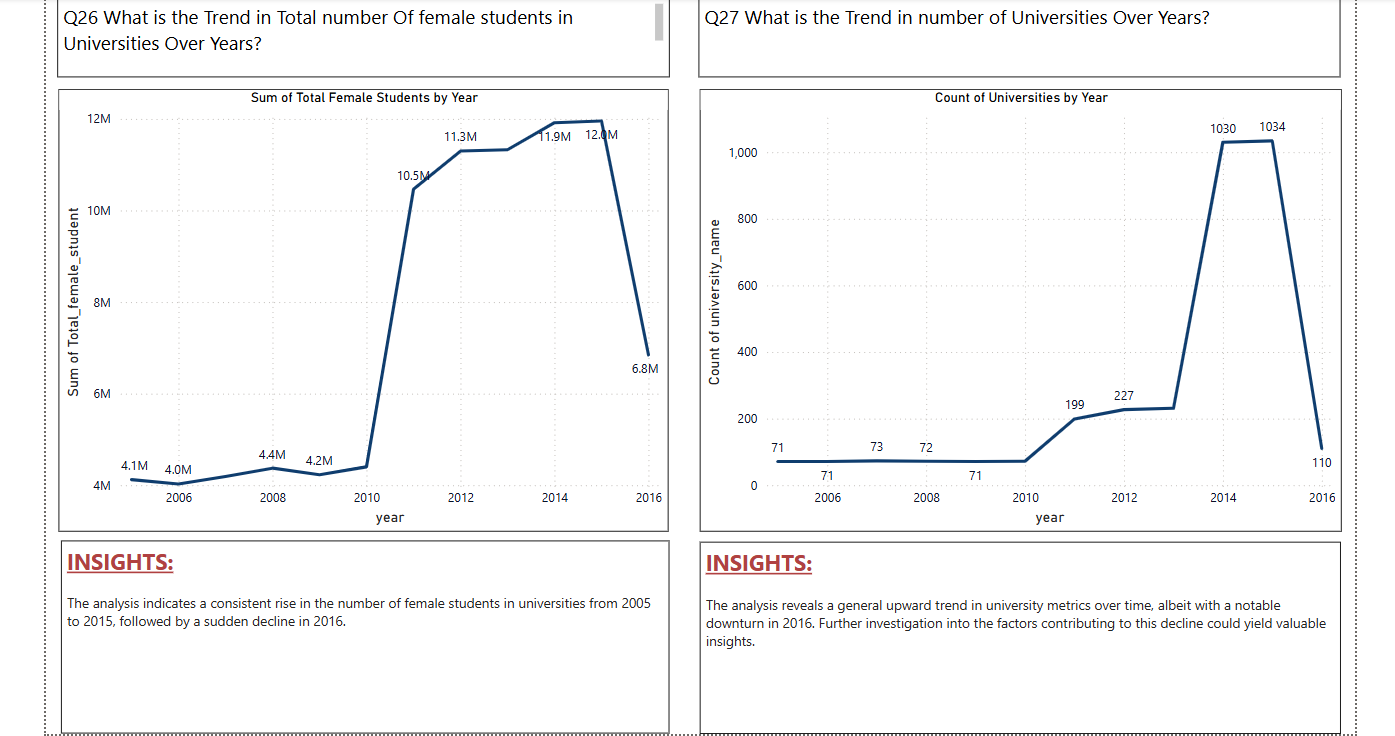

This screenshot's page, from the dashboard's own definition file:
{"tool":"powerbi","page":{"name":"Que26,27","canvas":[1280,720],"ordinal":13},"visuals":[{"type":"textbox","box":[10.5,0,598.8,77.9],"z":0},{"type":"lineChart","title":"Sum of Total Female Students by Year","fields":{"Category":["university_ranking_year.year"],"Y":["Sum(university_year.Total_female_student)"]},"box":[12.8,89.5,596.5,432.6],"z":1000},{"type":"textbox","box":[14.5,530.9,594.9,189.1],"z":2000},{"type":"textbox","box":[640,532.4,626.9,187.6],"z":3000},{"type":"textbox","box":[638.4,0,627.9,77.9],"z":4000},{"type":"lineChart","title":"Count of Universities by Year","fields":{"Category":["university_ranking_year.year"],"Y":["CountNonNull(university.university_name)"]},"box":[639.5,89.5,627.9,432.6],"z":8000}]}

Visuals, with their boxes in screenshot pixels (x1, y1, x2, y2):
textbox: {"left": 61, "top": 4, "right": 666, "bottom": 82}
"Sum of Total Female Students by Year" lineChart: {"left": 64, "top": 94, "right": 666, "bottom": 531}
textbox: {"left": 66, "top": 540, "right": 666, "bottom": 731}
textbox: {"left": 697, "top": 541, "right": 1331, "bottom": 731}
textbox: {"left": 696, "top": 4, "right": 1330, "bottom": 82}
"Count of Universities by Year" lineChart: {"left": 697, "top": 94, "right": 1331, "bottom": 531}
